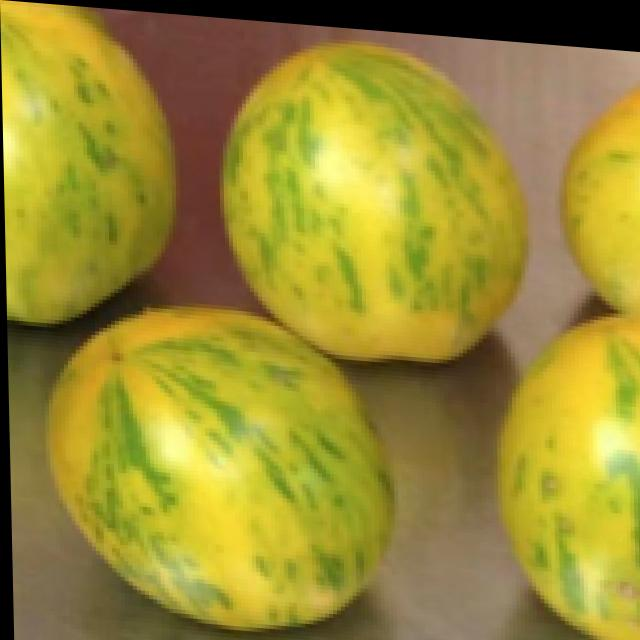yesil: (47, 271, 393, 640)
